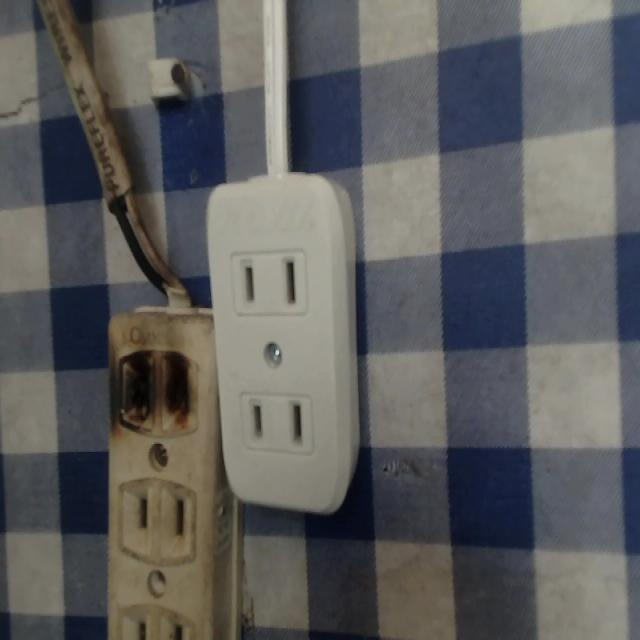-: (105, 338, 209, 434)
